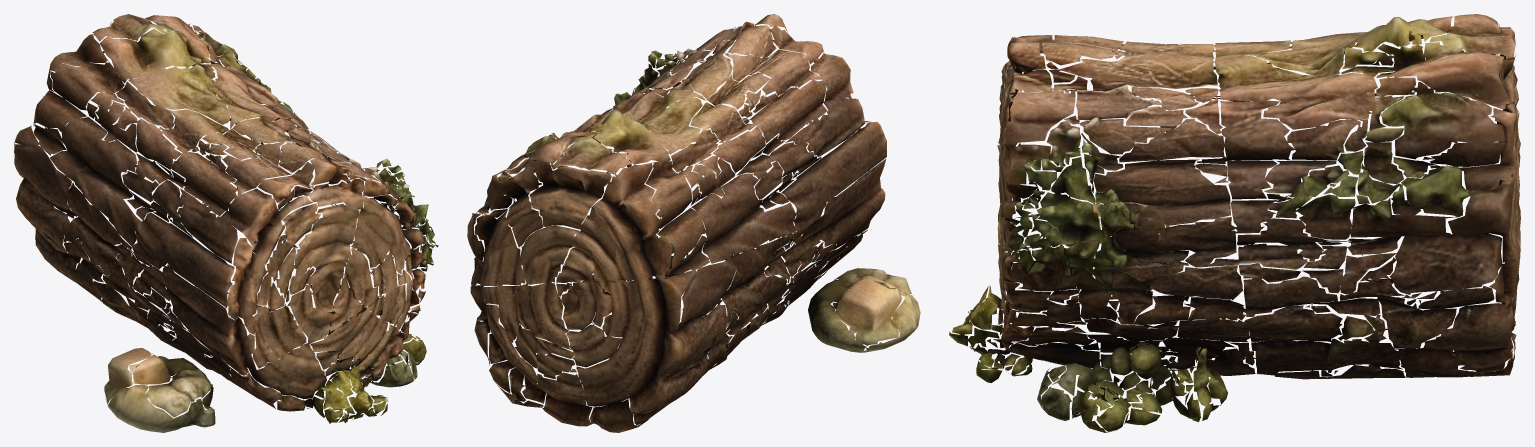
Rendered from log-game.glb.
The picture shows the model from 3 angles, left to right: view 1: azimuth 30°, elevation 25°; view 2: azimuth 150°, elevation 25°; view 3: azimuth 270°, elevation 25°; orthographic projection. The views are drawn at different scales.
Parts seen in each view (by area): view 1: tripo_node_8df7c6dc-2284-43b2-9357-e5b7e0089863; view 2: tripo_node_8df7c6dc-2284-43b2-9357-e5b7e0089863; view 3: tripo_node_8df7c6dc-2284-43b2-9357-e5b7e0089863.
Part boxes in pixels (bbox=[...]): tripo_node_8df7c6dc-2284-43b2-9357-e5b7e0089863: bbox=[14, 14, 438, 432]; tripo_node_8df7c6dc-2284-43b2-9357-e5b7e0089863: bbox=[467, 14, 920, 432]; tripo_node_8df7c6dc-2284-43b2-9357-e5b7e0089863: bbox=[949, 14, 1520, 432].
Size of the model in its own units: 0.7489 by 0.6431 by 0.9775.
1 material, 1 textured.
